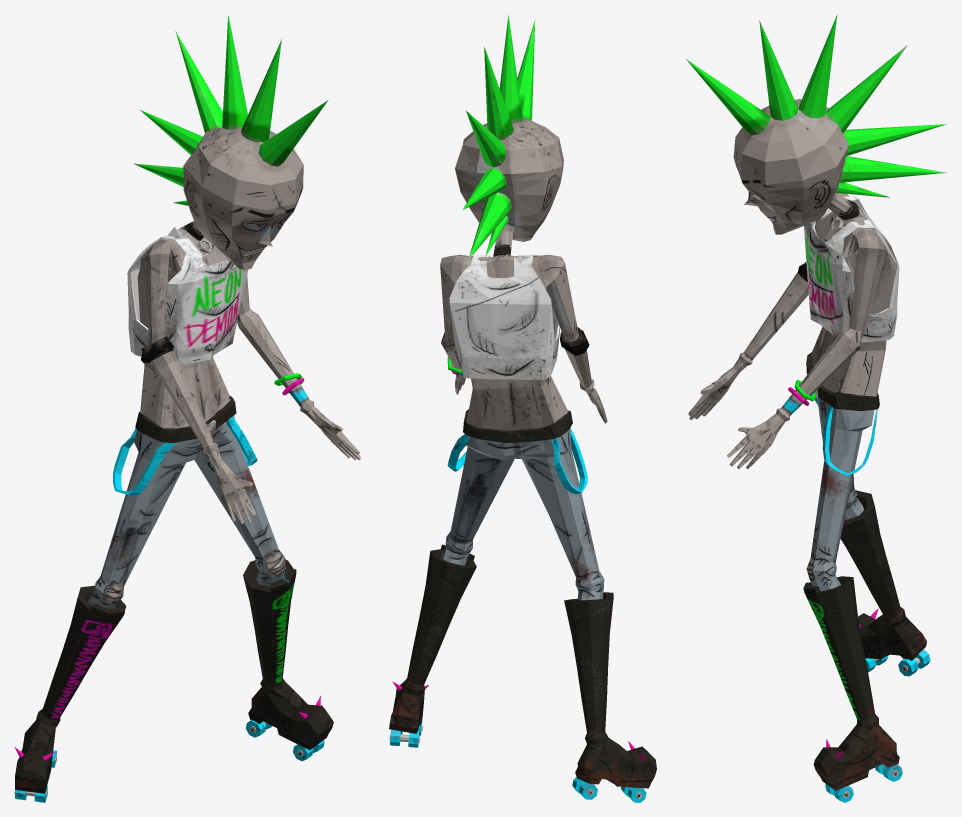
The model's file is punkAnimation_000139.obj.
3 renders of one model, left to right at view 1: azimuth 30°, elevation 25°; view 2: azimuth 150°, elevation 25°; view 3: azimuth 270°, elevation 25°, orthographic. The views are drawn at different scales.
Parts seen in each view (by area): view 1: Cube.004_Cube.003; view 2: Cube.004_Cube.003; view 3: Cube.004_Cube.003.
Part boxes in pixels (x1,y1,x2,y2): Cube.004_Cube.003: [14, 15, 360, 802]; Cube.004_Cube.003: [389, 14, 656, 802]; Cube.004_Cube.003: [685, 15, 946, 802].
Bounding box in the file's own units: 3.03 × 7.37 × 2.35.
